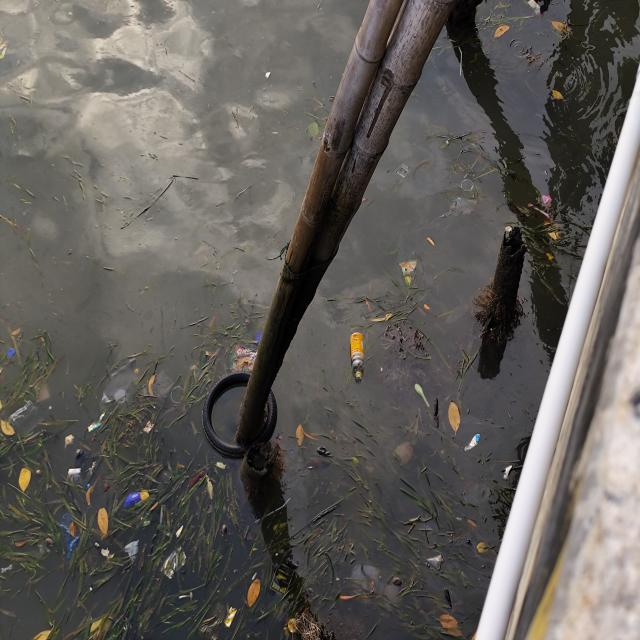Botol Plastik: (349, 324, 370, 385)
Bungkus Makanan: (230, 344, 259, 376), (397, 259, 424, 291), (449, 196, 479, 217), (121, 489, 144, 510)
Bungkus Minuman: (268, 556, 299, 599)
Kantong Plastik: (99, 350, 175, 424), (9, 399, 42, 440), (57, 512, 80, 562)
